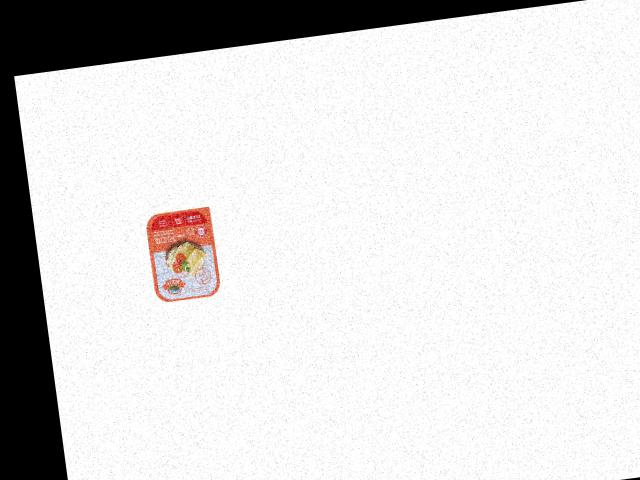cheese: (139, 200, 223, 306)
